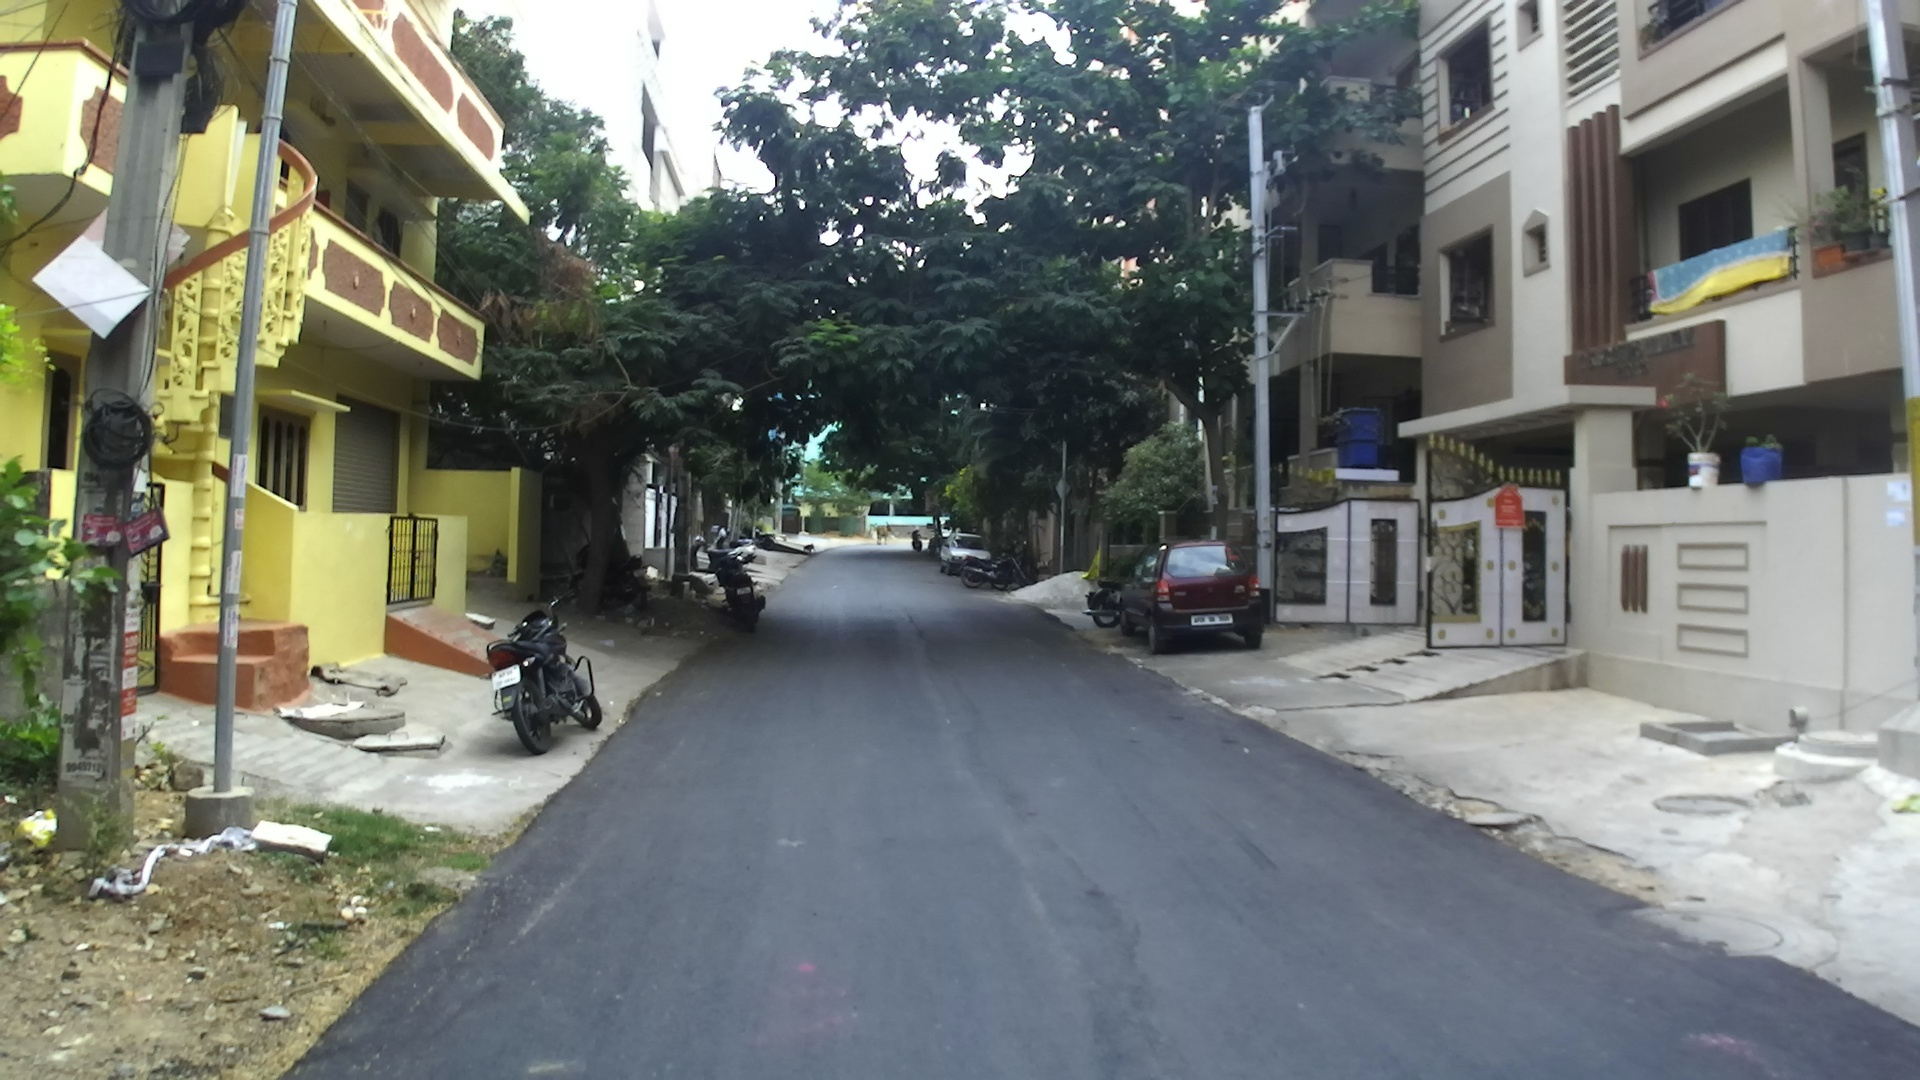vehicle: (487, 600, 603, 756), (1108, 542, 1271, 651), (696, 535, 770, 632), (939, 547, 1021, 589), (938, 541, 998, 584), (935, 539, 986, 575)
